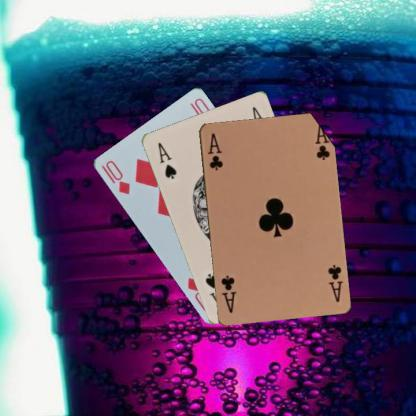10d: (98, 157, 131, 196)
Ac: (324, 262, 344, 303), (205, 130, 224, 171)
As: (155, 140, 178, 180)
